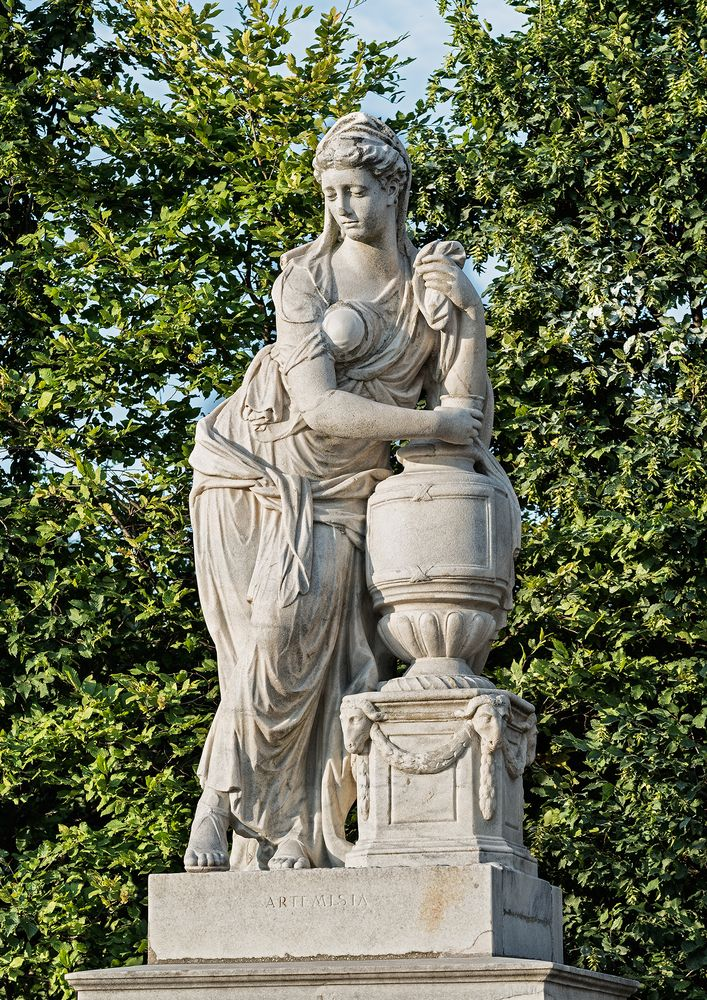person-like: (166, 105, 505, 882)
